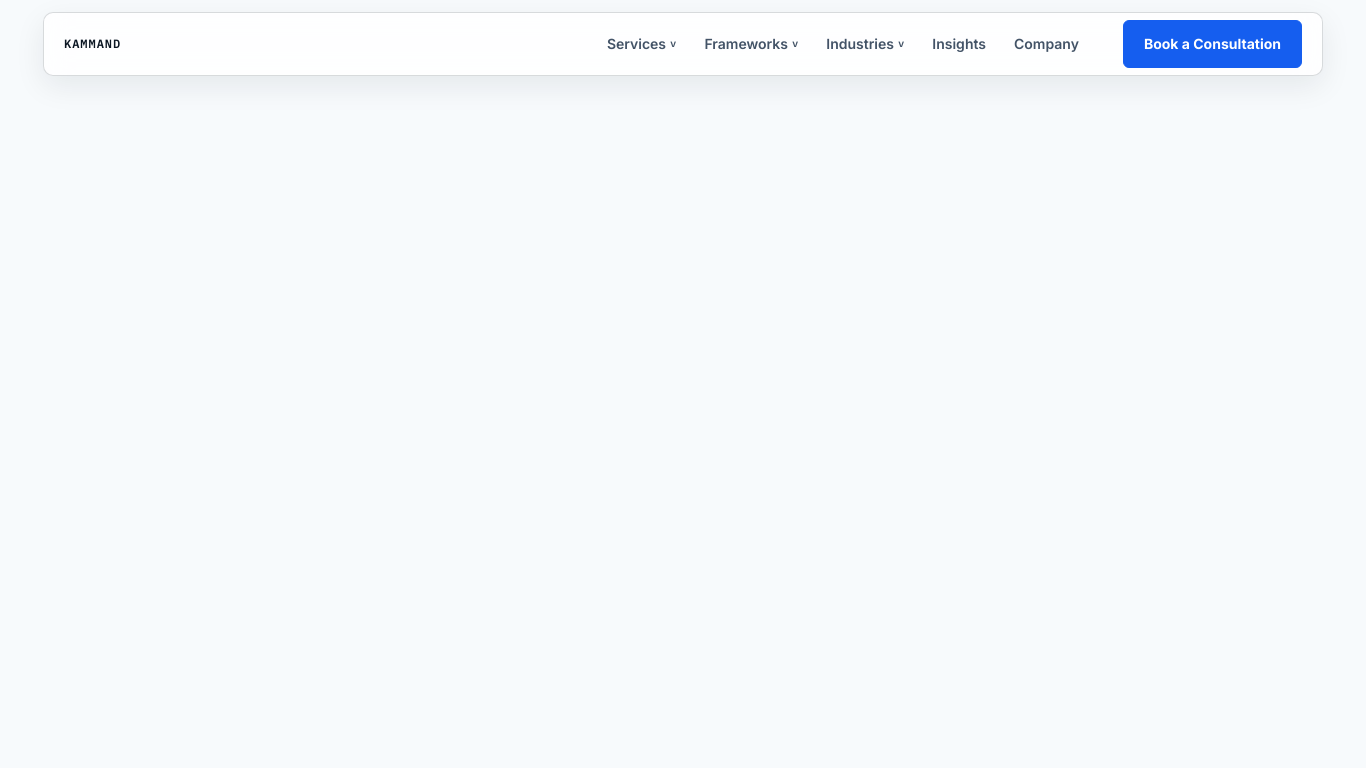
it: SiteHeader › closes an open desktop dropdown after outside click
The width and height of the screenshot is (1366, 768).
Step 1. Click the button "Services v" → (642, 44), box [595, 22, 688, 66]
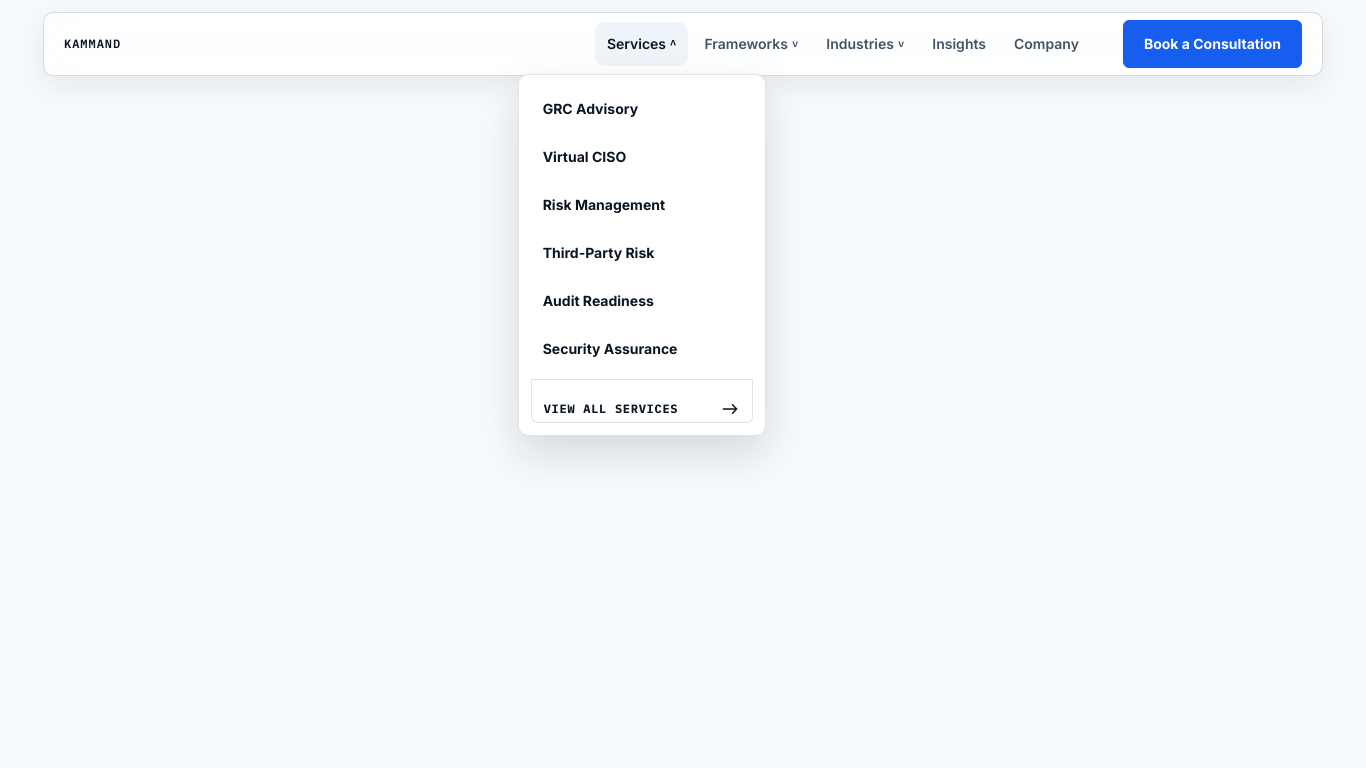
Now the button "Services v" is expanded, box [595, 22, 688, 66]
Step 2. Press the mouse on the element that starts with "KAMMAND" → (683, 384), box [0, 0, 1365, 767]
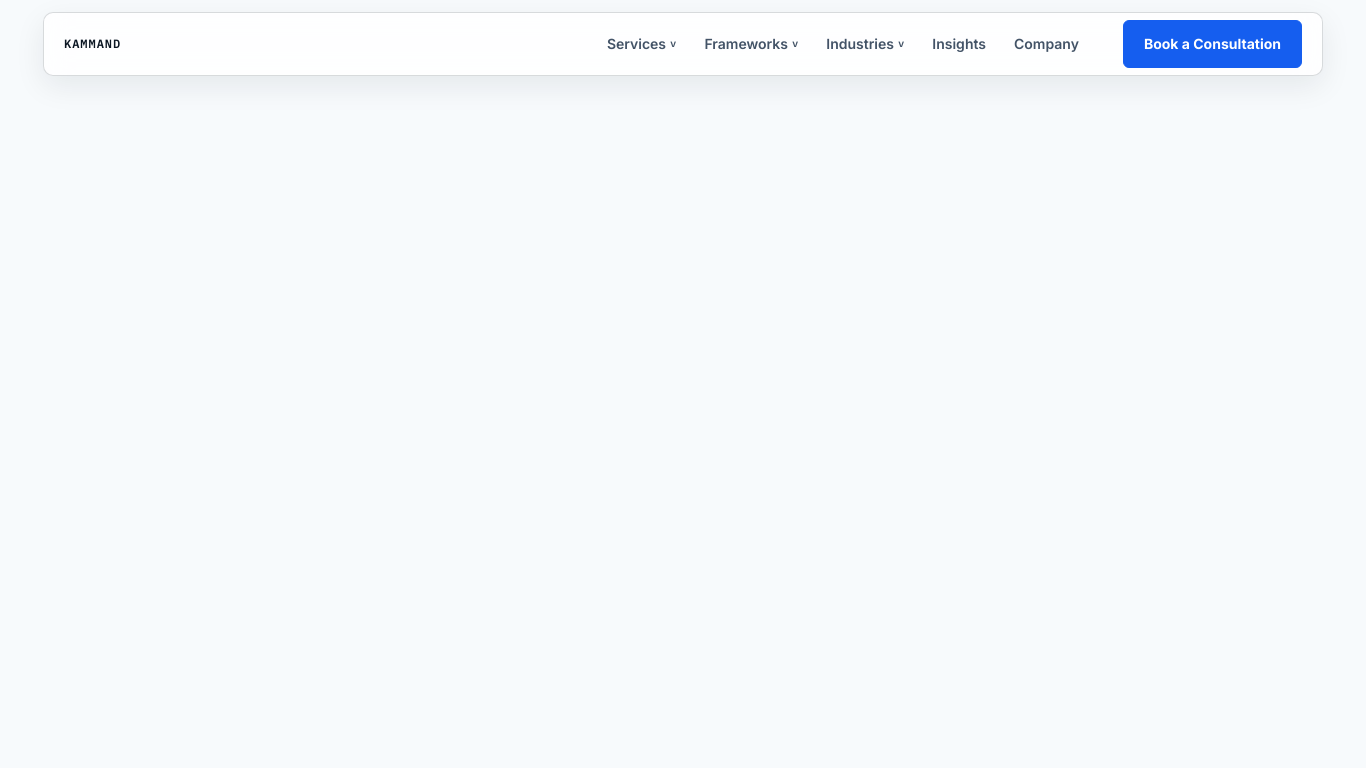
Now the button "Services v" is collapsed, box [595, 22, 688, 66]
